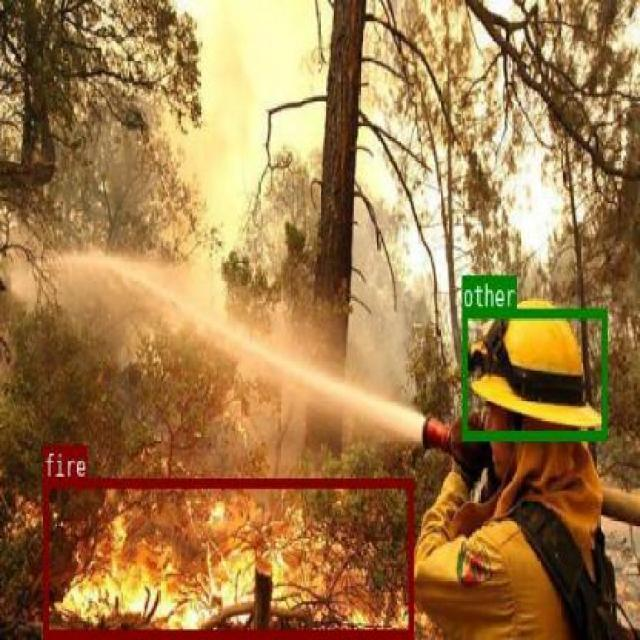Fire: (41, 478, 412, 636)
